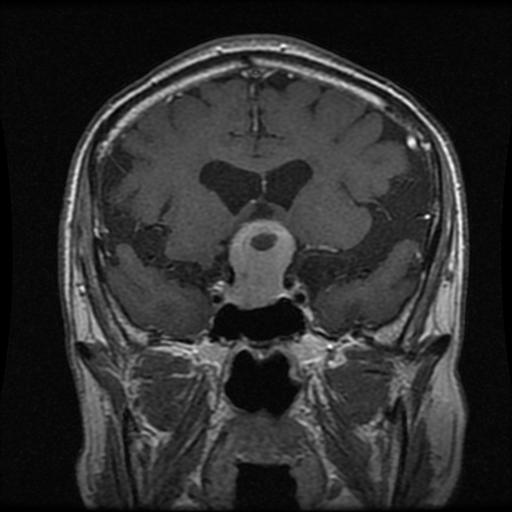Pituirity_tumour: (218, 218, 298, 308)
